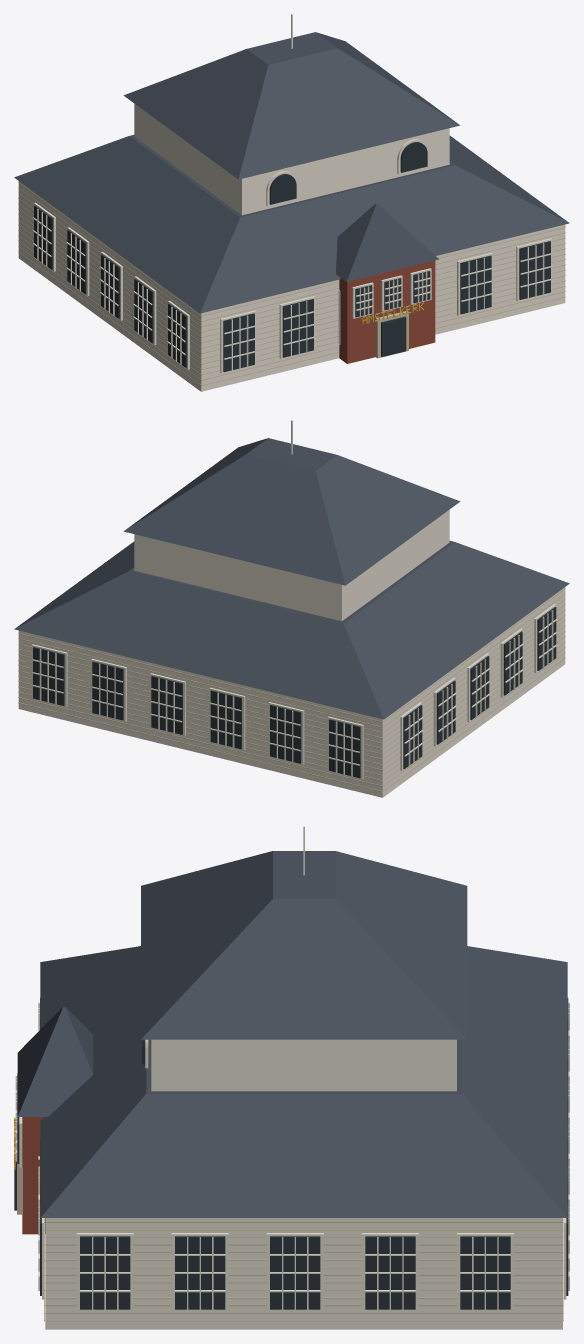
The model's file is amstelkerk.glb.
3 renders of one model, top to bottom at view 1: azimuth 30°, elevation 25°; view 2: azimuth 150°, elevation 25°; view 3: azimuth 270°, elevation 25°, orthographic. The views are drawn at different scales.
Parts seen in each view (by area): view 1: amstelkerk; view 2: amstelkerk; view 3: amstelkerk.
Part boxes in pixels (x1,y1,x2,y2): amstelkerk: (14,14,569,391); amstelkerk: (14,420,569,797); amstelkerk: (14,826,569,1329).
Size of the model in its own units: 32.1 by 21.9 by 29.25.
